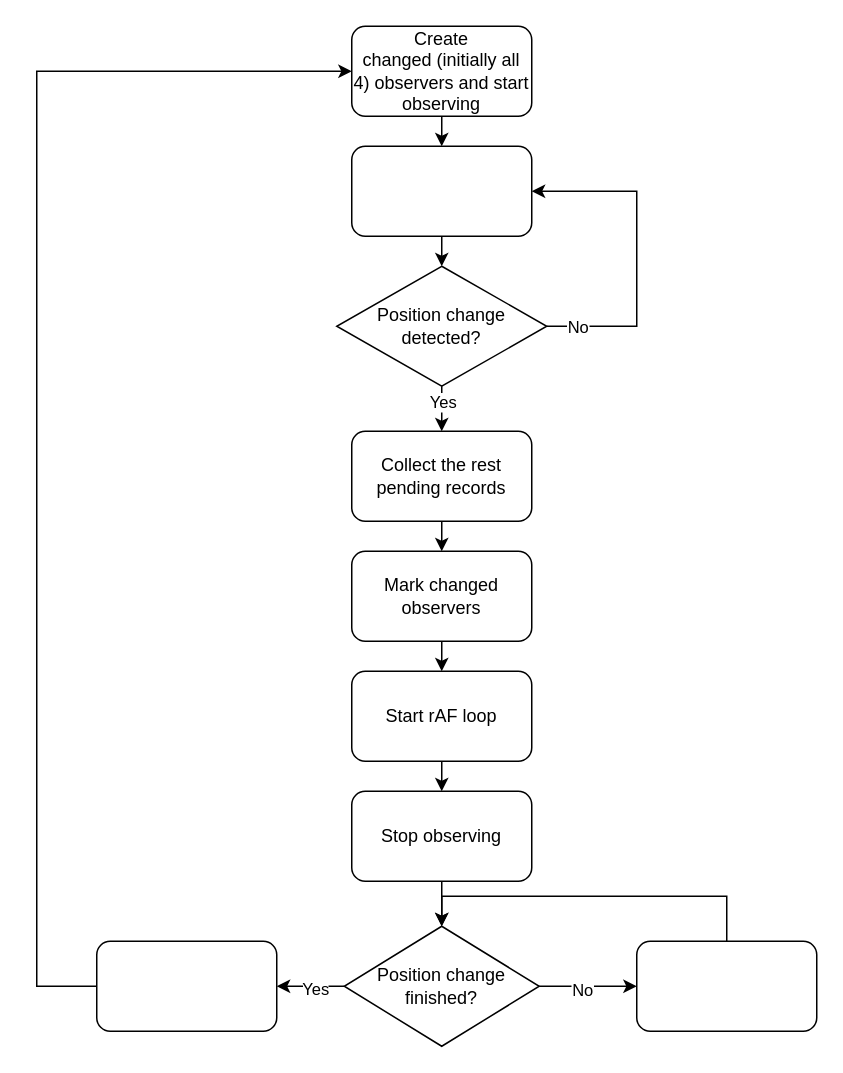
This 843x1073 diagram has some shape labels left out. The box of each missing label's shape, as (x1, y1, x2, y2) in pixels:
Idle: (350, 145, 532, 236)
Position observer callback: (635, 940, 817, 1031)
Stop rAF loop: (95, 940, 277, 1031)
